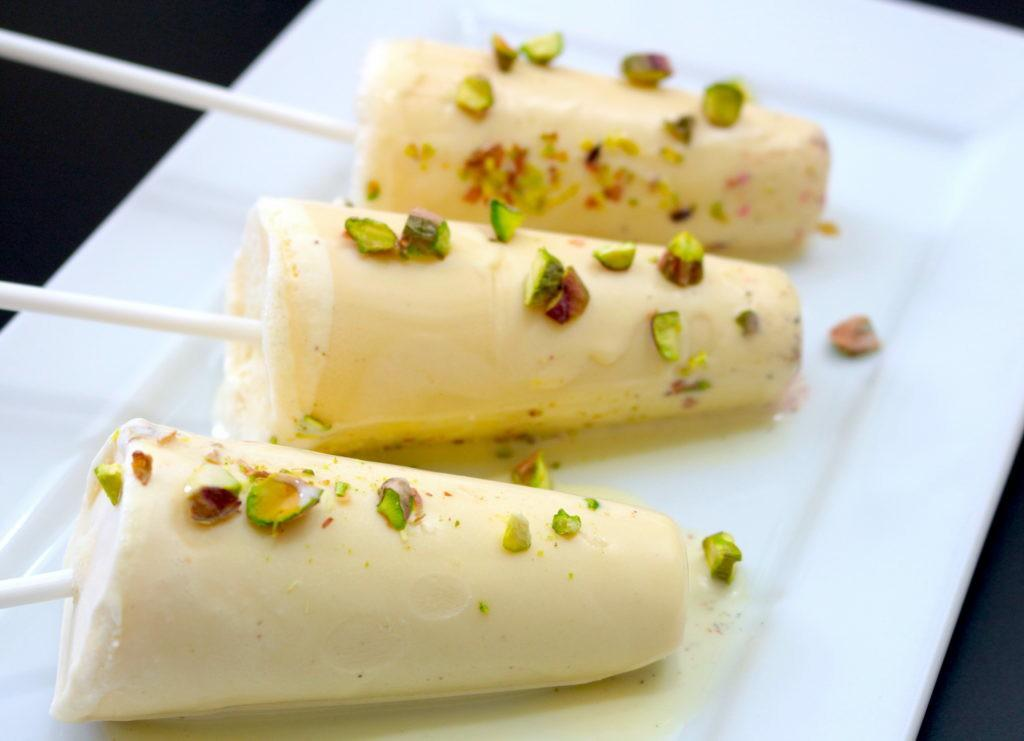Kulfi: (53, 409, 687, 720), (231, 195, 802, 448), (351, 33, 831, 252)
